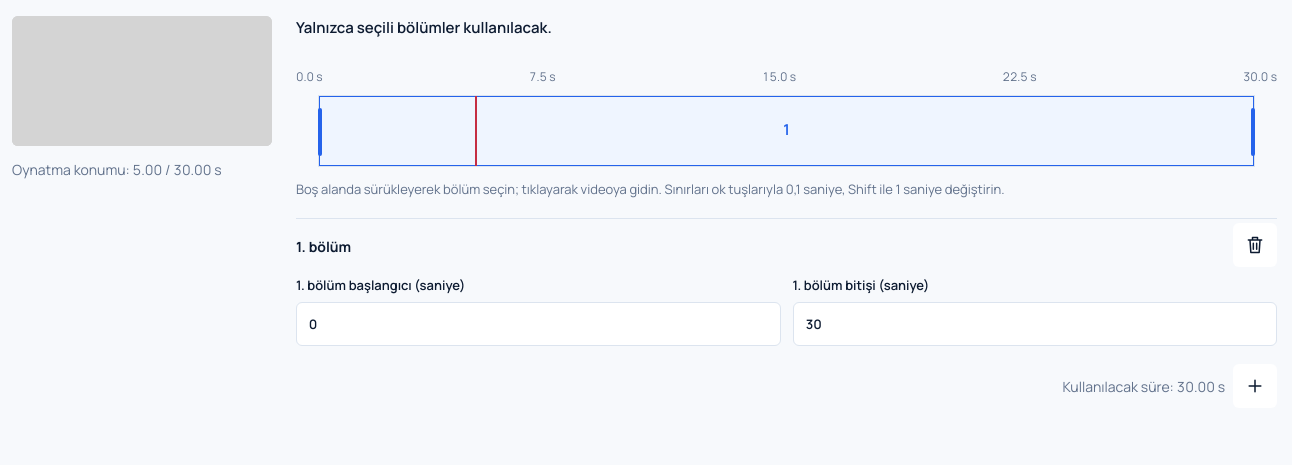
Test: add at playhead leaves unavailable gap unchanged and explains why
The width and height of the screenshot is (1292, 465).
Click the button named "Bölüm ekle".
click(1255, 386)  # box [1233,364,1277,408]
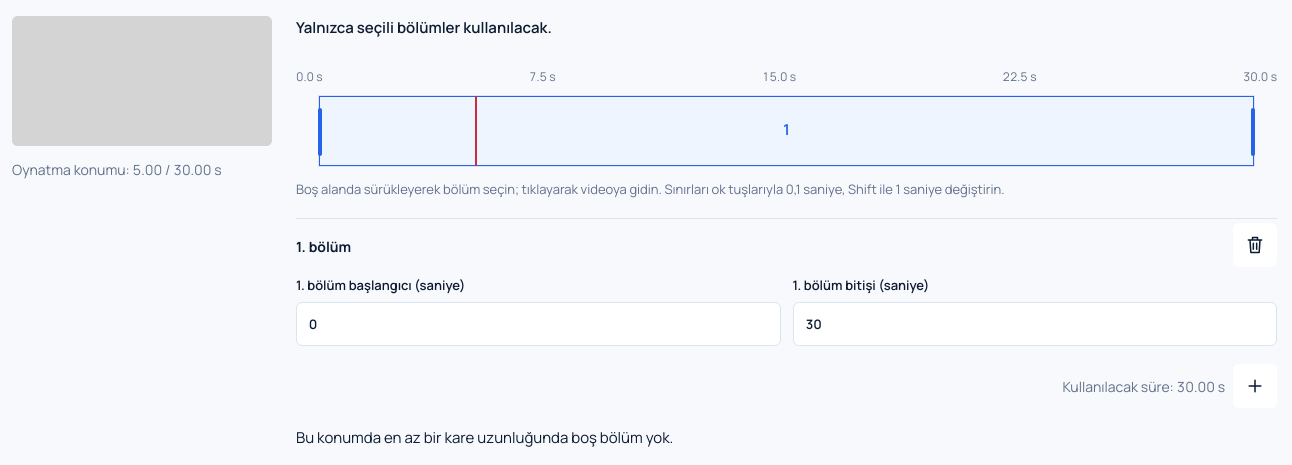
Now the text "Bu konumda en az bir kare uzunluğunda boş bölüm yok." is shown, box [296,427,673,448]
